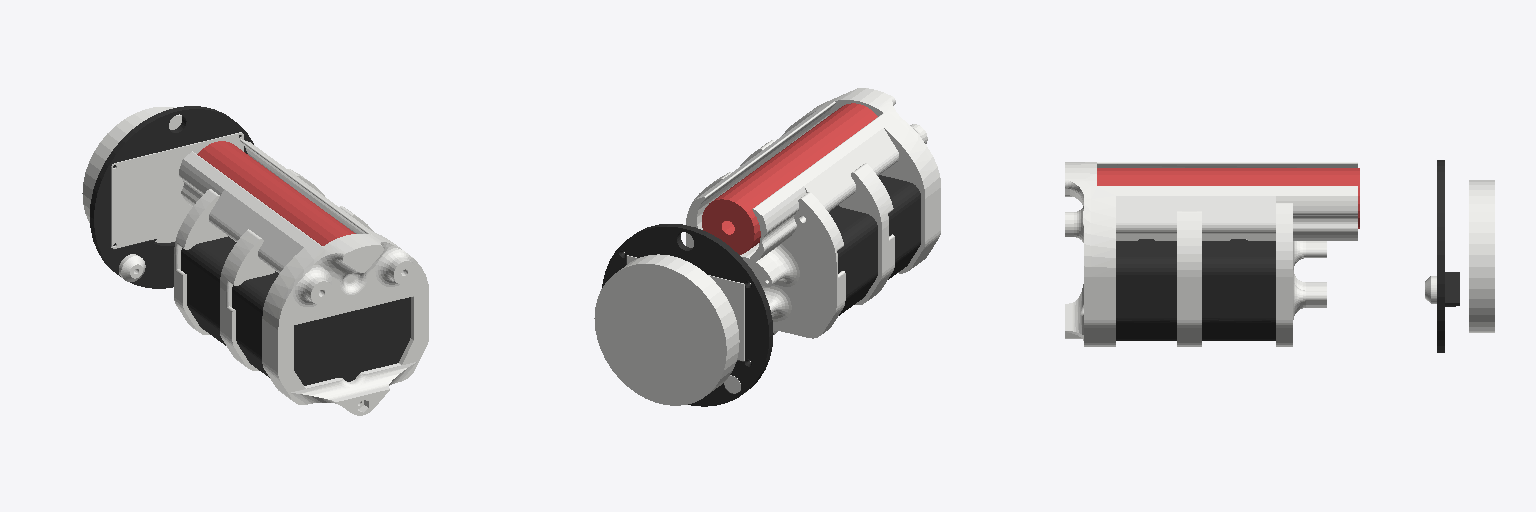
The picture shows the model from 3 angles: view 1: azimuth 30°, elevation 25°; view 2: azimuth 150°, elevation 25°; view 3: azimuth 270°, elevation 25°; orthographic projection.
Visible parts, largest first — view 1: geometry_0, geometry_1; view 2: geometry_0, geometry_1; view 3: geometry_0, geometry_1.
Part boxes in pixels (x1,y1,x2,y2): geometry_0: (82, 107, 428, 415); geometry_1: (90, 106, 410, 385); geometry_0: (594, 88, 940, 405); geometry_1: (602, 103, 920, 406); geometry_0: (1065, 162, 1494, 346); geometry_1: (1097, 160, 1459, 352).
Bounding box in the file's own units: 0.152 × 0.152 × 0.337.
2 materials, 1 textured.